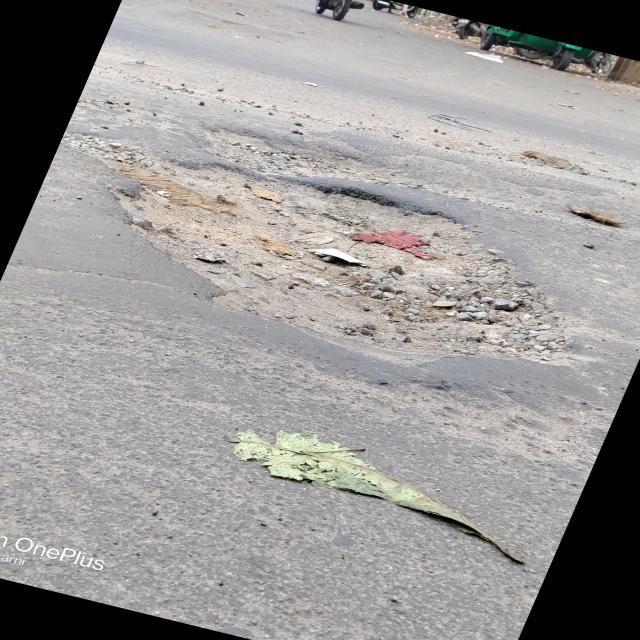potholes: (59, 129, 596, 375)
